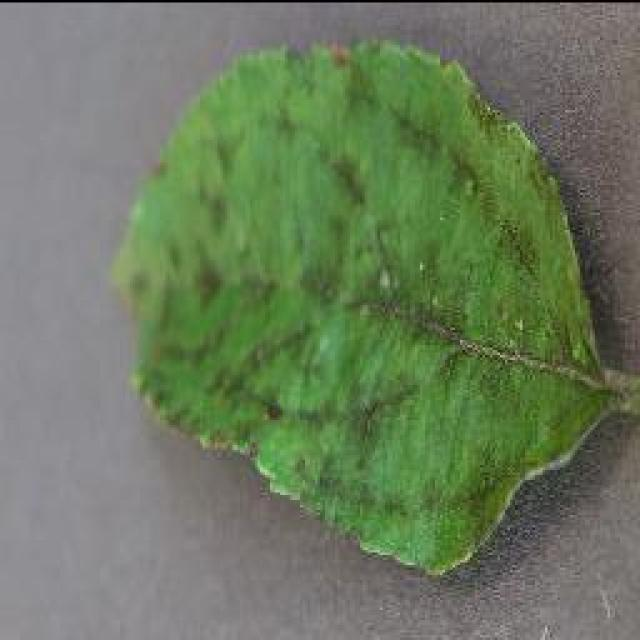apple scab disease: (110, 35, 638, 577)
